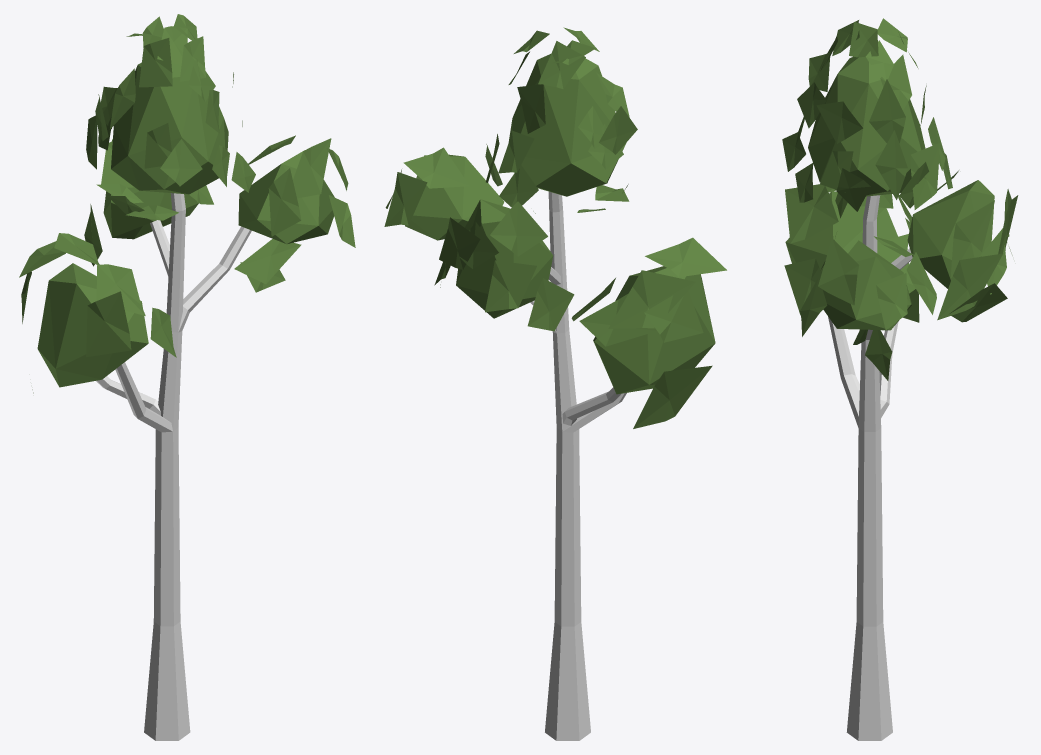
The model's file is tree-beech-sapling-a.gltf.
The picture shows the model from 3 angles, left to right: view 1: azimuth 30°, elevation 25°; view 2: azimuth 150°, elevation 25°; view 3: azimuth 270°, elevation 25°; orthographic projection.
Parts seen in each view (by area): view 1: tree-beech-sapling-a; view 2: tree-beech-sapling-a; view 3: tree-beech-sapling-a.
Boxes of the visible parts, left/top/right/bottom form: tree-beech-sapling-a: left=19, top=14, right=355, bottom=740; tree-beech-sapling-a: left=384, top=27, right=726, bottom=740; tree-beech-sapling-a: left=782, top=18, right=1018, bottom=740.
Size of the model in its own units: 0.0112 by 0.0232 by 0.008.
